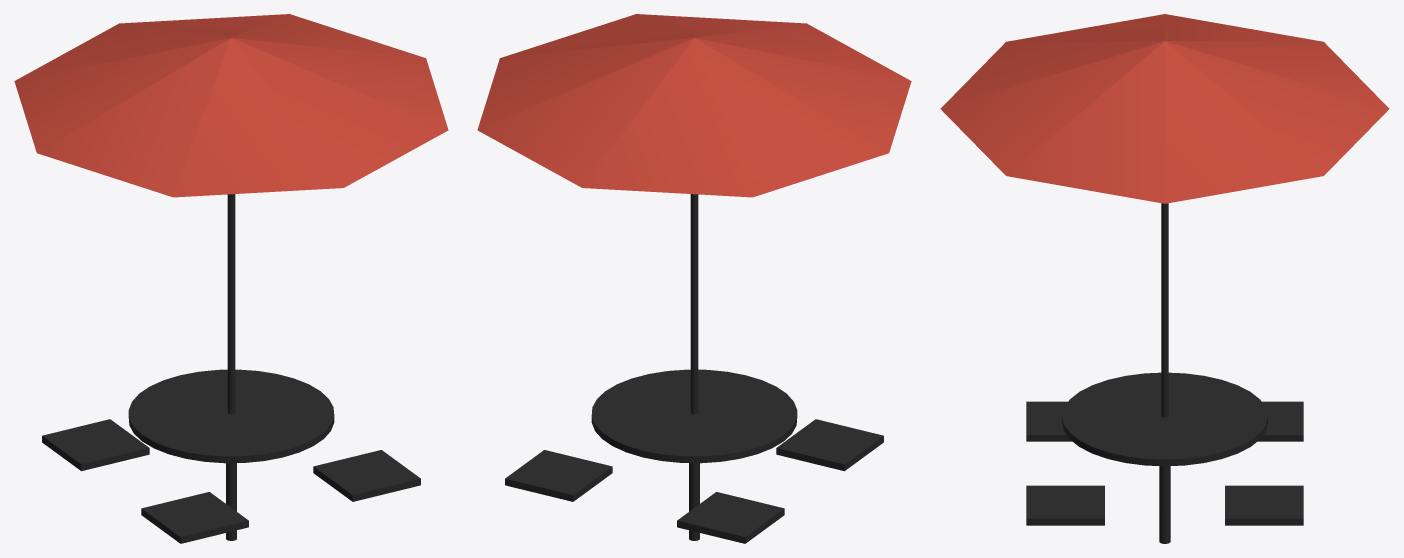
The model's file is patioSet.glb.
The picture shows the model from 3 angles, left to right: view 1: azimuth 30°, elevation 25°; view 2: azimuth 150°, elevation 25°; view 3: azimuth 270°, elevation 25°; orthographic projection.
Parts seen in each view (by area): view 1: patioSet; view 2: patioSet; view 3: patioSet.
Boxes of the visible parts, left/top/right/bottom form: patioSet: left=14, top=14, right=448, bottom=543; patioSet: left=477, top=14, right=911, bottom=543; patioSet: left=940, top=14, right=1389, bottom=543.
Bounding box in the file's own units: 2.4 × 2.95 × 2.4.
